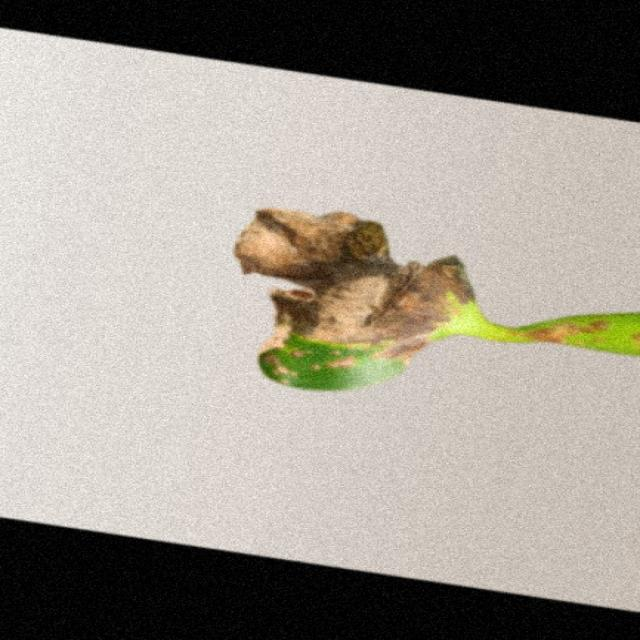daun berpenyakit bercak: (235, 209, 638, 389)
